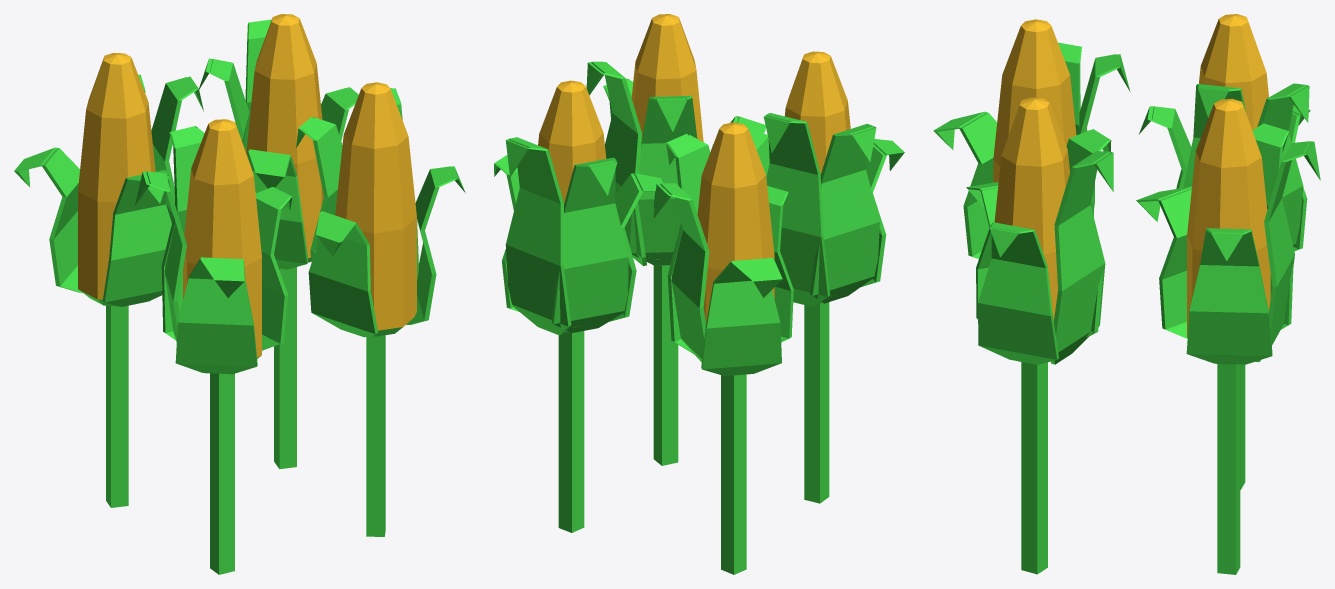
File: corn.fbx
The picture shows the model from 3 angles, left to right: view 1: azimuth 30°, elevation 25°; view 2: azimuth 150°, elevation 25°; view 3: azimuth 270°, elevation 25°; orthographic projection. The views are drawn at different scales.
Visible parts, largest first — view 1: corn.001, corn.002, corn.003, corn; view 2: corn, corn.003, corn.001, corn.002; view 3: corn, corn.002, corn.001, corn.003.
Part boxes in pixels (left/top/right/bottom): corn.001: left=135, top=119, right=292, bottom=574; corn.002: left=296, top=82, right=465, bottom=536; corn.003: left=14, top=53, right=203, bottom=507; corn: left=199, top=14, right=358, bottom=469; corn: left=494, top=80, right=662, bottom=532; corn.003: left=653, top=122, right=793, bottom=574; corn.001: left=749, top=51, right=904, bottom=503; corn.002: left=586, top=14, right=765, bottom=465; corn: left=1136, top=98, right=1320, bottom=574; corn.002: left=966, top=97, right=1113, bottom=574; corn.001: left=933, top=19, right=1130, bottom=258; corn.003: left=1138, top=14, right=1310, bottom=489.
Size of the model in its own units: 905 by 1207 by 904.
